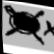not correct: (0, 1, 54, 47)
